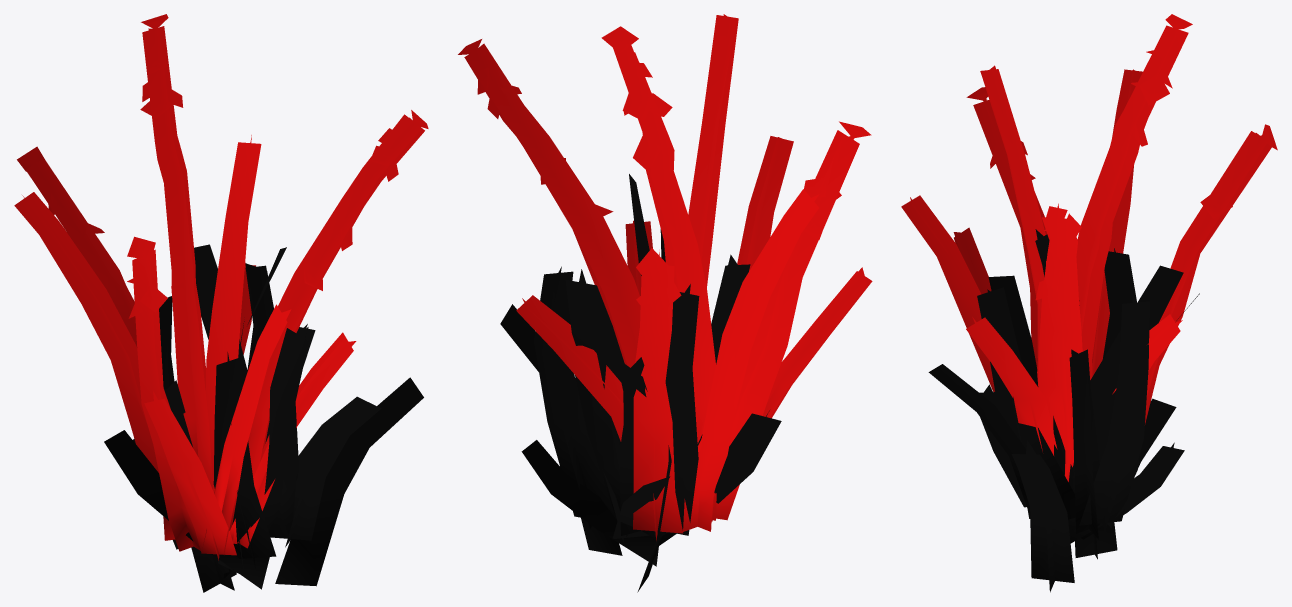
3 views of the same model, side by side, from view 1: azimuth 30°, elevation 25°; view 2: azimuth 150°, elevation 25°; view 3: azimuth 270°, elevation 25° (orthographic). The views are drawn at different scales.
Visible parts, largest first — view 1: G:\FFXIV-MapTools\exports\w1f3\bg\ffxiv\wil_w1\fld\common\bg; view 2: G:\FFXIV-MapTools\exports\w1f3\bg\ffxiv\wil_w1\fld\common\bg; view 3: G:\FFXIV-MapTools\exports\w1f3\bg\ffxiv\wil_w1\fld\common\bg.
Part boxes in pixels (x1,y1,x2,y2): G:\FFXIV-MapTools\exports\w1f3\bg\ffxiv\wil_w1\fld\common\bg: [14, 14, 428, 592]; G:\FFXIV-MapTools\exports\w1f3\bg\ffxiv\wil_w1\fld\common\bg: [458, 14, 872, 592]; G:\FFXIV-MapTools\exports\w1f3\bg\ffxiv\wil_w1\fld\common\bg: [901, 14, 1277, 592].
Size of the model in its own units: 2.27 by 3.17 by 2.04.
